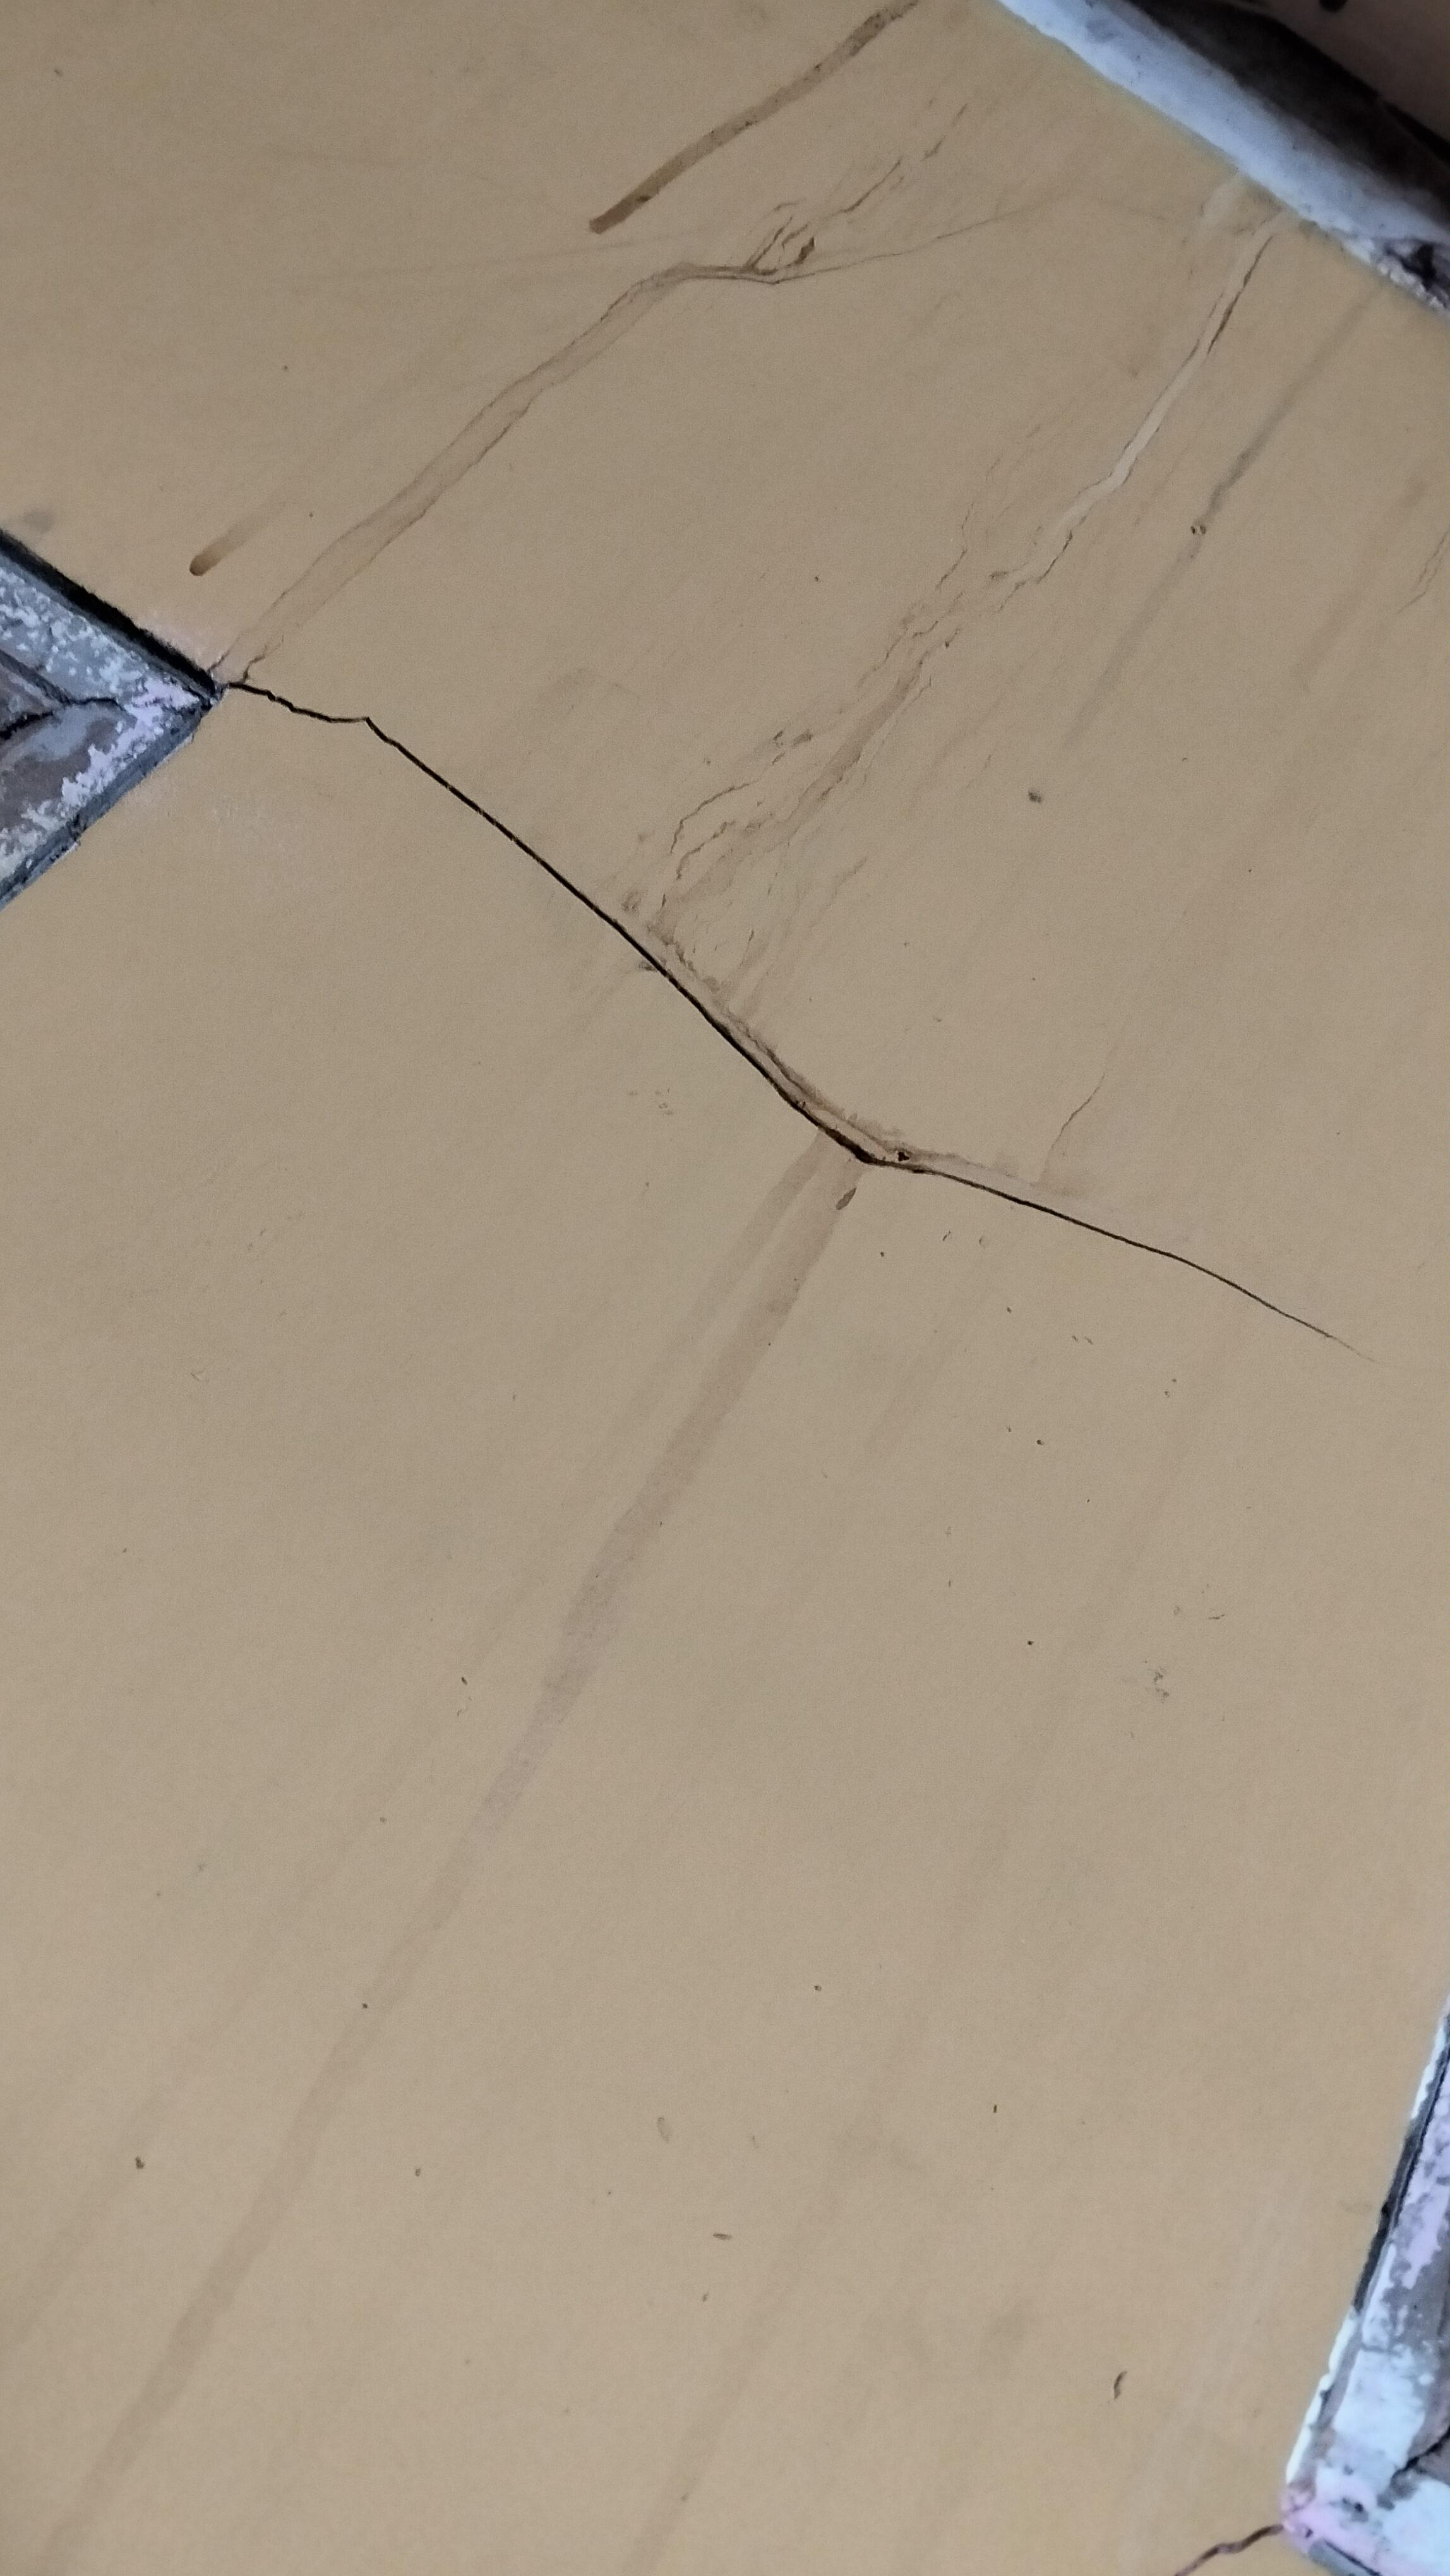Crack: (205, 662, 1374, 1375)
